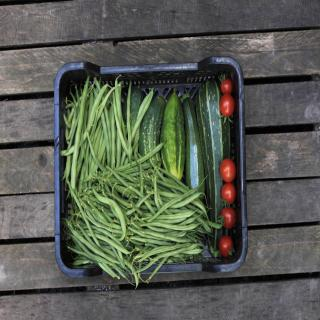tomato: (218, 94, 234, 124), (220, 203, 237, 229), (220, 158, 235, 184), (220, 182, 234, 206), (219, 239, 236, 256), (220, 78, 232, 92)
